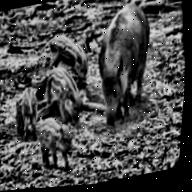boar: (86, 0, 178, 129), (34, 55, 88, 128), (45, 24, 95, 90), (35, 110, 83, 175), (12, 76, 40, 145)
